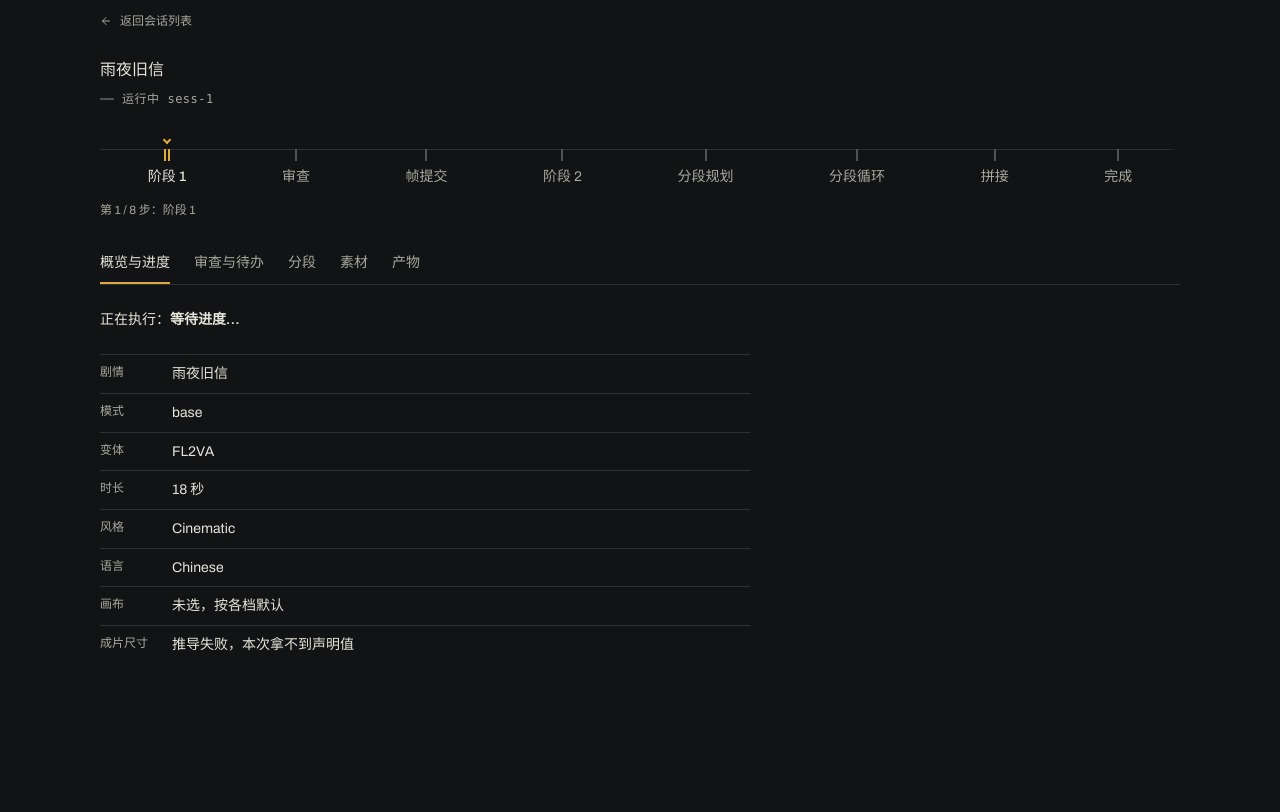
Scenario: SessionDetailView 分段分区 › 长片但分段规划还没完成时，分区也在并显示「规划中」
Click the tab "分段".
click(302, 264)  # box 288,244 -> 316,284
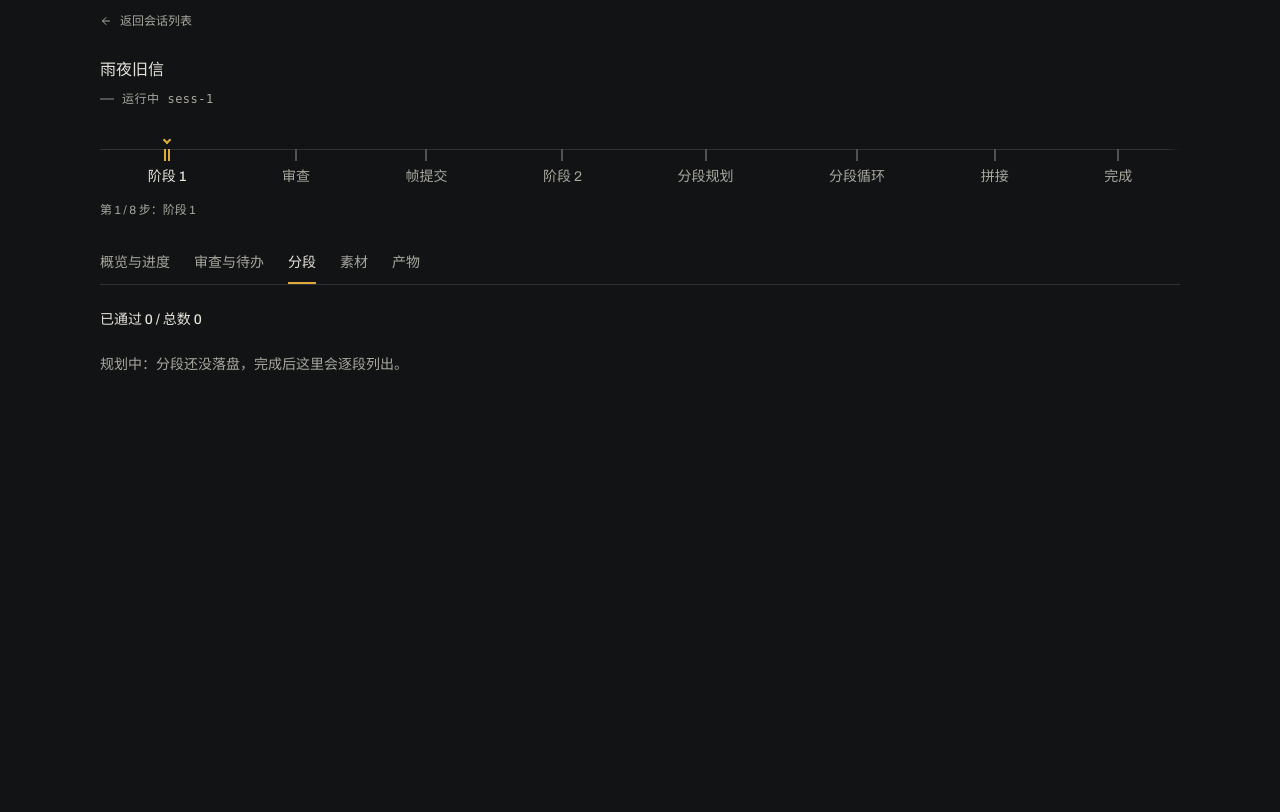
Result: the panel with id "workbench-panel-segments" shows "规划中" at 100,357 -> 408,372
Result: the panel with id "workbench-panel-segments" shows "已通过 0 / 总数 0" at 100,312 -> 202,327
